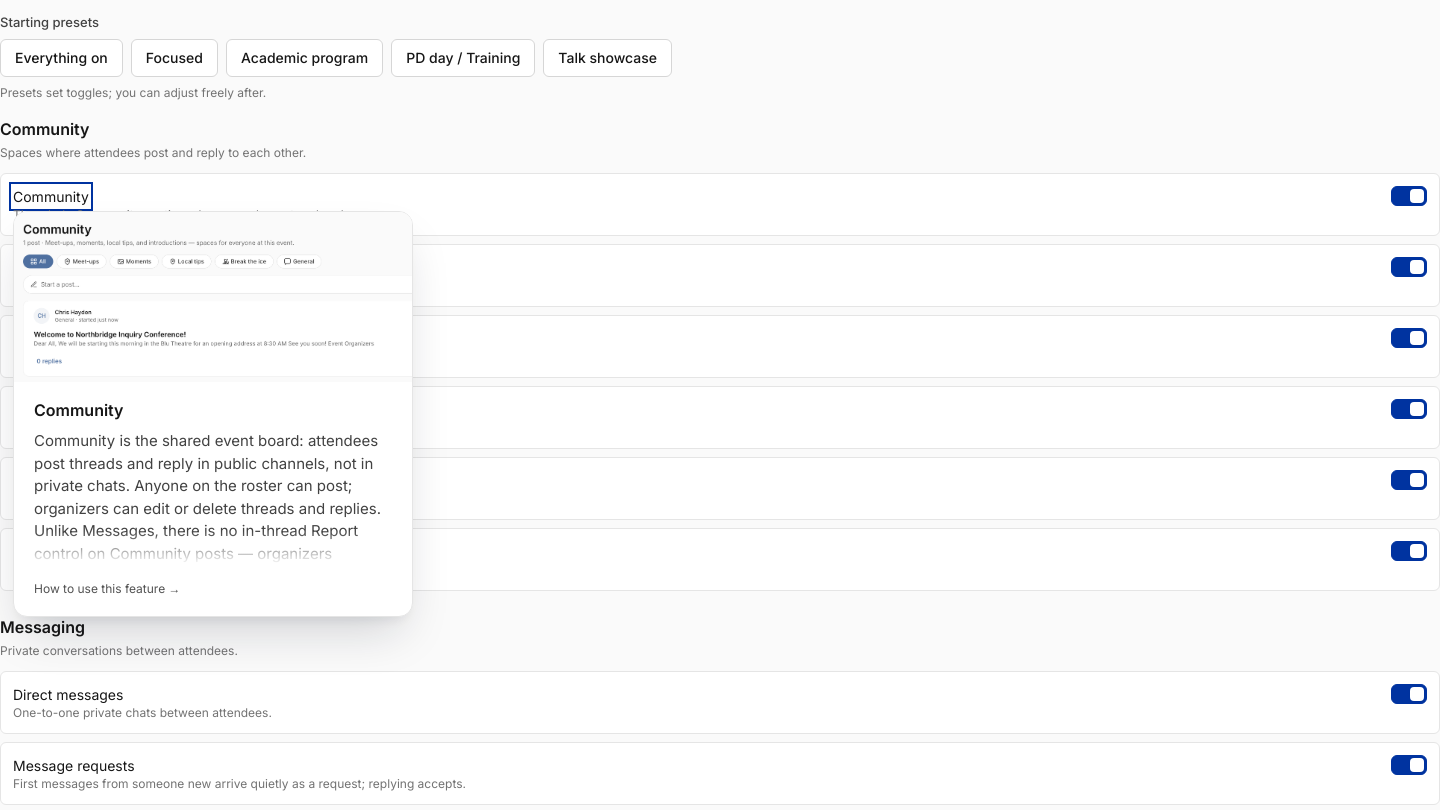
K-2.1 — Features tab + GuidePanel › popover shows whatItDoes (not plainDescription, not Appears in) and opens GuidePanel
The width and height of the screenshot is (1440, 810).
Expected: the button with class "hover-info-label" reads "Community", [13,186,89,207]
Expected: the tooltip is shown, [13,211,413,617]
Click the button "How to use this feature →" at [107, 589], box [34,581,181,597]
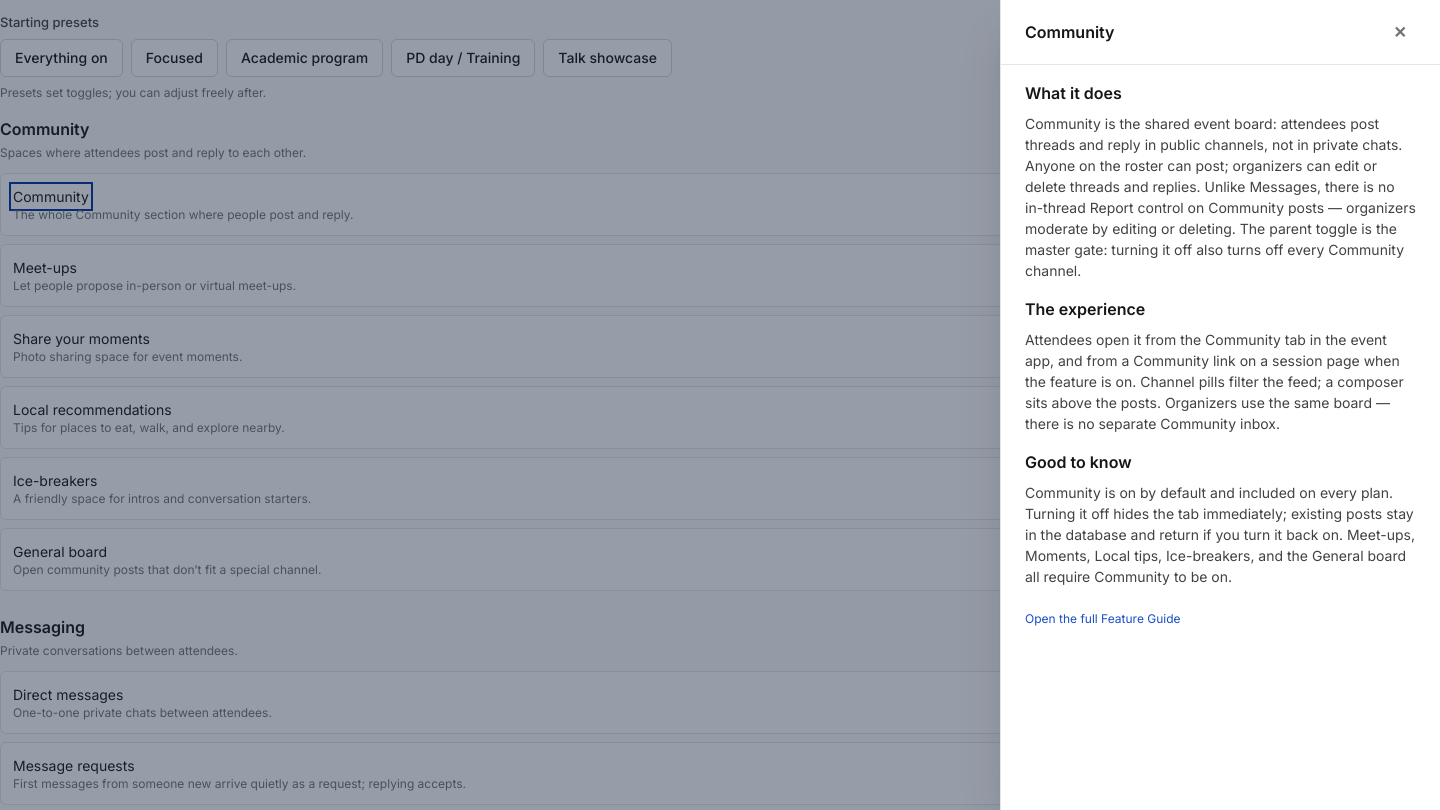
Expected: the dialog is shown, [1000,0,1439,809]
Expected: the dialog shows "Community", [1025,22,1114,42]
Expected: the dialog shows "What it does", [1025,83,1122,103]
Click the button with class "drawer-close" at [1400, 32], box [1384,16,1416,48]
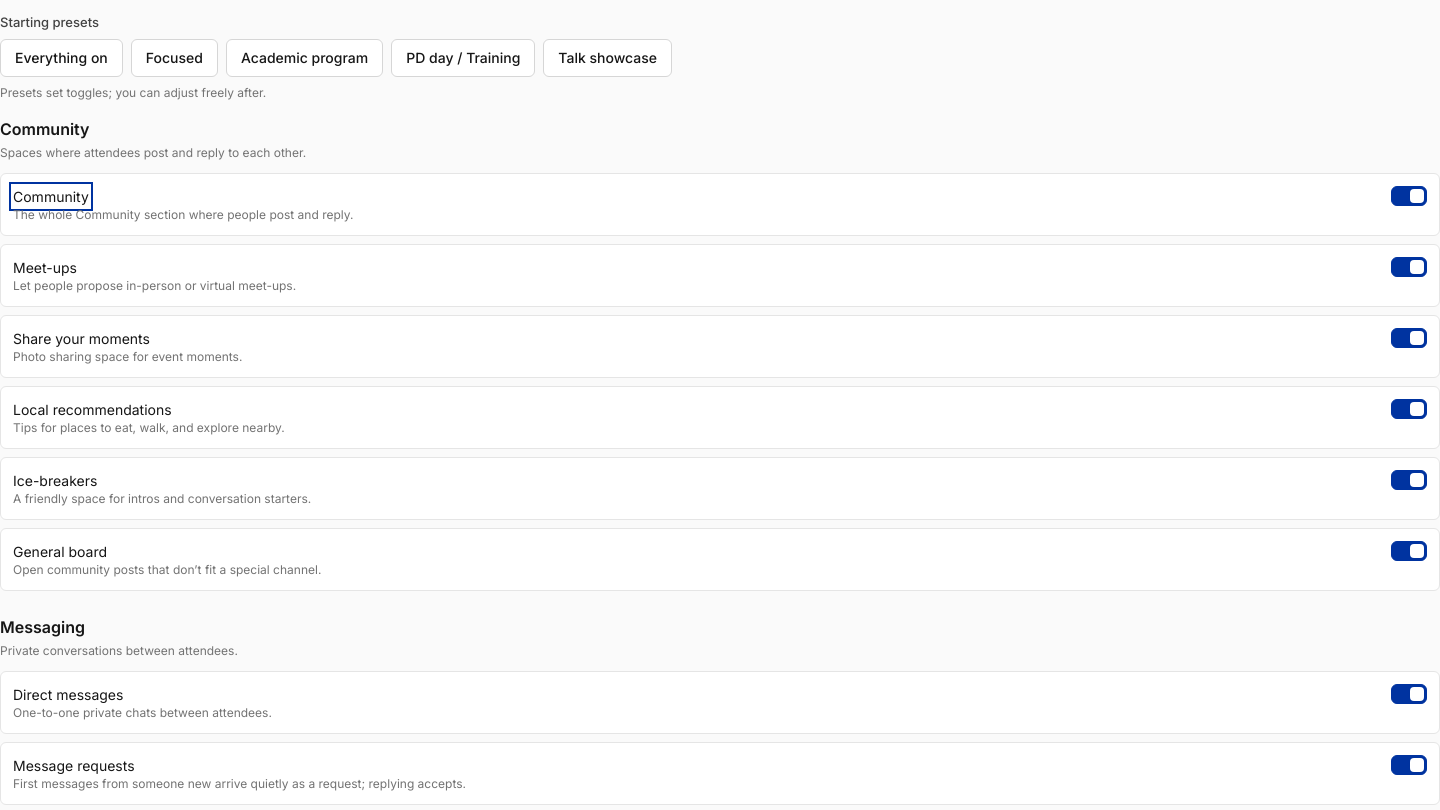
Expected: the dialog is gone
